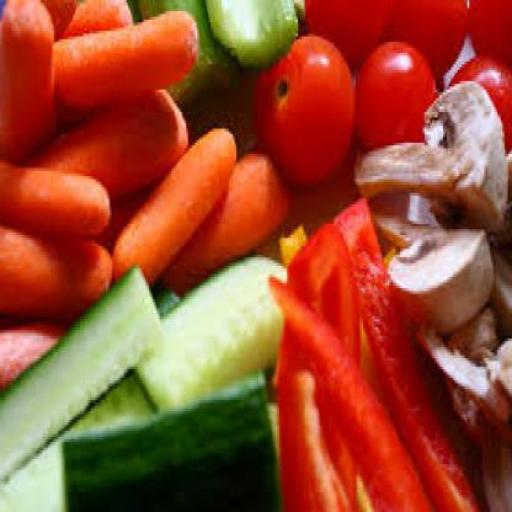biodegradable: (1, 0, 511, 511), (333, 190, 481, 509), (2, 260, 164, 504), (270, 271, 434, 509), (67, 369, 281, 510), (136, 251, 292, 409), (279, 221, 363, 509), (360, 78, 508, 236), (2, 366, 157, 510), (113, 126, 240, 288), (37, 88, 194, 216), (166, 148, 291, 294), (258, 31, 360, 178), (56, 6, 201, 106), (372, 216, 496, 328), (418, 315, 511, 437), (2, 224, 115, 316), (142, 0, 238, 98), (356, 37, 443, 145), (1, 0, 57, 162), (2, 156, 114, 235), (448, 299, 506, 442), (304, 0, 398, 70), (206, 0, 302, 65), (2, 313, 76, 390), (452, 50, 510, 142), (392, 1, 472, 67), (477, 422, 511, 504), (65, 0, 134, 37), (472, 0, 510, 59), (492, 237, 511, 330), (40, 0, 82, 42), (154, 279, 184, 314), (508, 150, 511, 241)
